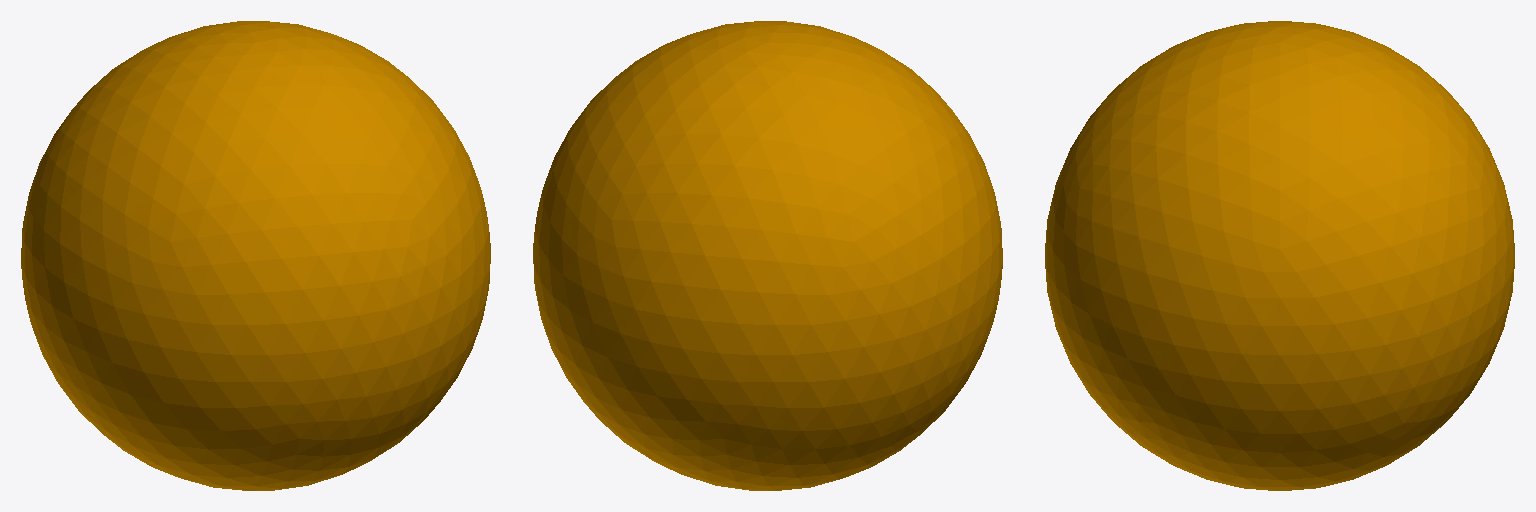
The model's file is sun.obj.
The picture shows the model from 3 angles: view 1: azimuth 30°, elevation 25°; view 2: azimuth 150°, elevation 25°; view 3: azimuth 270°, elevation 25°; orthographic projection.
Visible parts, largest first — view 1: Icosphere; view 2: Icosphere; view 3: Icosphere.
Part boxes in pixels (x1,y1,x2,y2): Icosphere: (21, 21, 490, 490); Icosphere: (533, 21, 1002, 490); Icosphere: (1045, 21, 1514, 490).
Size of the model in its own units: 200 by 200 by 200.